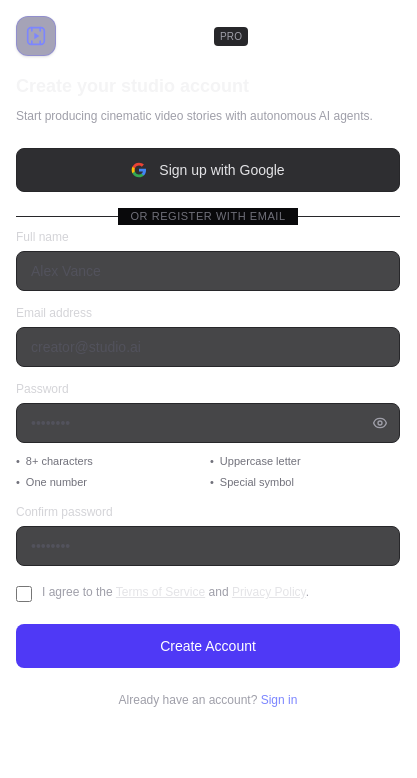
Test: SignupForm › shows Google signup placeholder notice
This screenshot has width=417, height=778.
What coordinates should you click on to do the following:
click the button "Sign up with Google"
I would click on:
 (208, 170)
Its box is [16, 148, 400, 192].
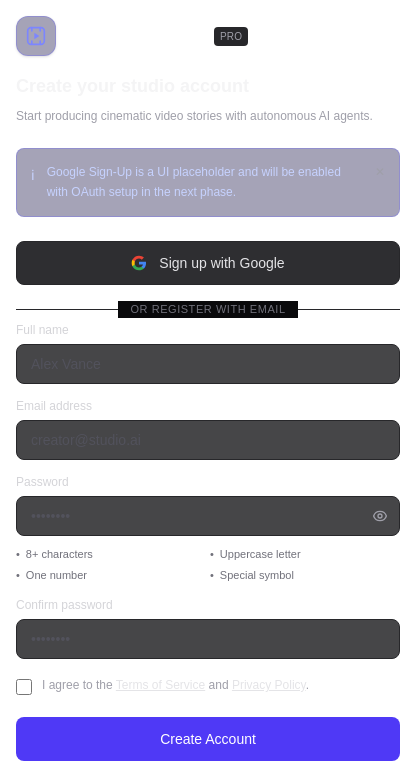
Check: the text "Google Sign-Up is a UI placeholder" is shown, box [47, 165, 341, 198]
